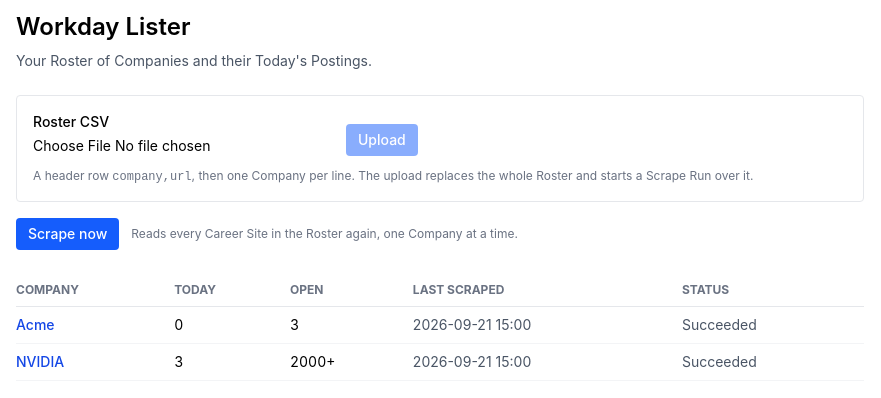
Test: a refused Scrape now says a run is in progress and shows that run
Expected: the link "Acme" is shown, [16,316,55,333]
Click the button "Scrape now" at (68, 234), box [16,218,119,250]
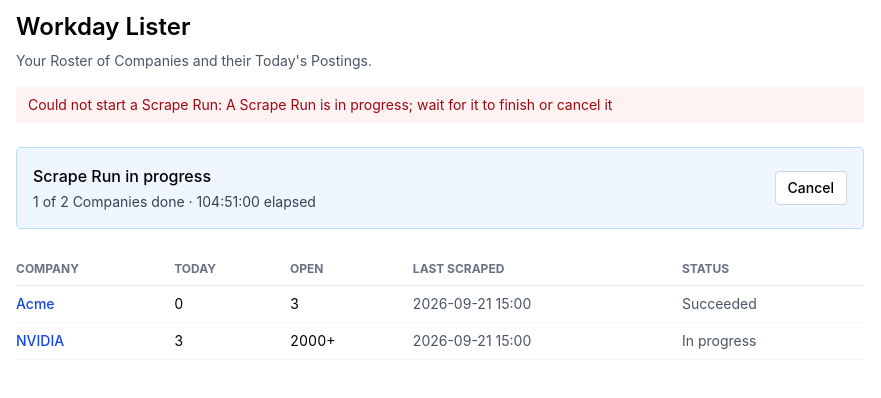
Result: the text "1 of 2 Companies done · 104:51:00 elapsed" is shown at [33,193,316,210]
Result: the button "Scrape now" is gone
